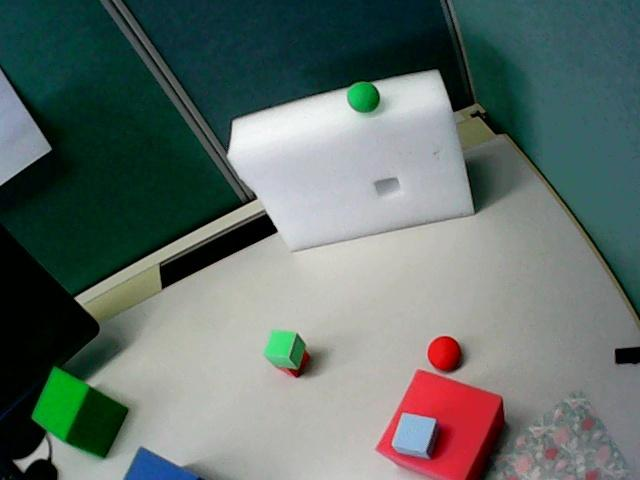blue_block: (124, 447, 200, 479), (392, 413, 438, 458)
red_block: (376, 370, 503, 479), (276, 350, 309, 377)
